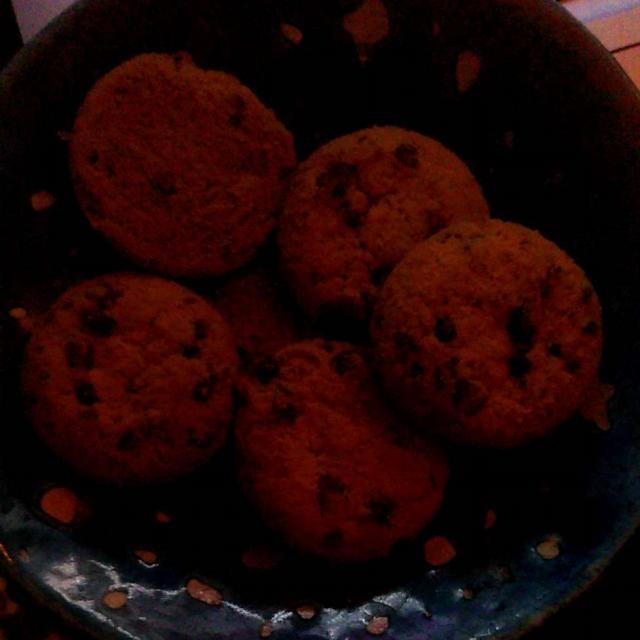cookies: (44, 69, 610, 554)
